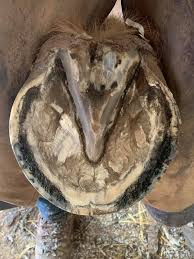horsesole: (9, 51, 182, 216)
